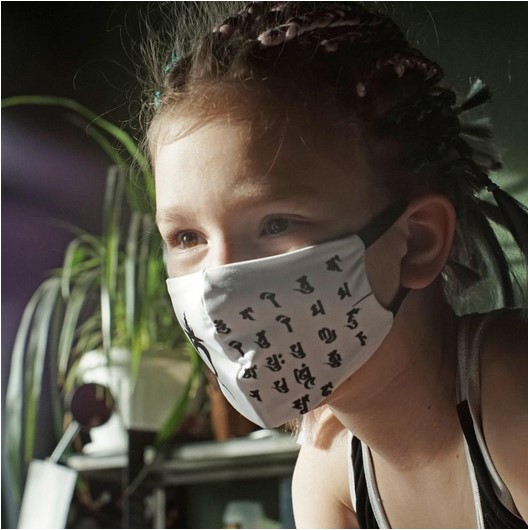face_with_mask: (138, 52, 464, 434)
